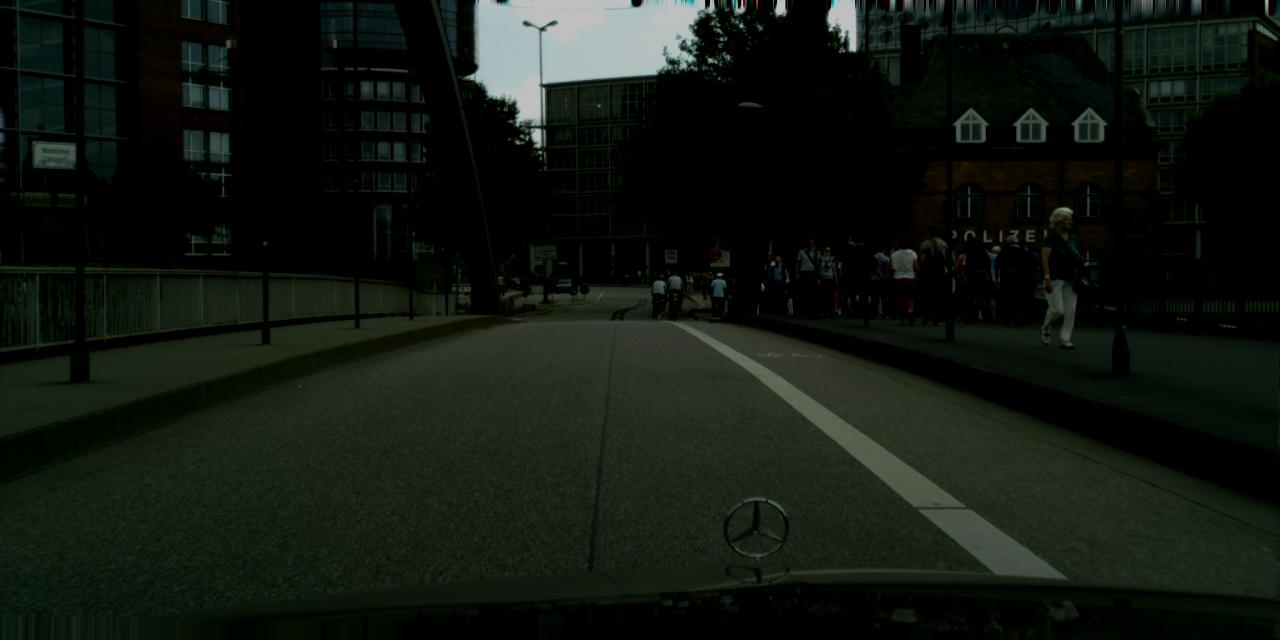ped: (1030, 207, 1088, 347), (911, 226, 951, 324), (992, 234, 1030, 328), (888, 236, 923, 325), (958, 236, 993, 322), (841, 233, 875, 318), (1009, 239, 1043, 322), (793, 237, 825, 316), (966, 241, 998, 320), (950, 244, 981, 322), (980, 245, 1011, 321), (836, 241, 866, 315), (811, 244, 841, 317), (880, 246, 910, 318), (865, 244, 894, 318), (932, 246, 961, 320), (852, 245, 881, 316), (834, 252, 859, 313), (867, 254, 891, 315), (764, 256, 788, 313), (786, 256, 809, 313), (825, 254, 847, 310), (819, 262, 839, 310), (779, 268, 798, 313), (709, 272, 727, 317), (666, 271, 682, 314), (650, 274, 666, 314), (754, 276, 769, 311), (423, 278, 436, 308), (434, 279, 446, 309), (723, 276, 733, 300), (764, 289, 774, 312), (700, 275, 709, 299), (496, 272, 504, 294), (706, 270, 714, 292), (503, 272, 511, 292), (680, 272, 687, 289), (690, 271, 697, 288), (688, 273, 694, 290), (500, 275, 506, 291), (696, 272, 702, 288), (544, 278, 550, 292), (722, 270, 727, 286), (558, 274, 563, 289), (648, 271, 654, 283), (623, 270, 628, 284), (636, 268, 641, 282), (537, 271, 542, 284), (730, 275, 735, 288), (552, 274, 557, 286), (611, 270, 616, 282), (659, 270, 664, 282), (702, 272, 707, 284), (727, 268, 732, 280), (499, 270, 504, 281), (550, 270, 554, 282), (631, 270, 635, 282), (662, 271, 666, 283), (529, 272, 533, 282)
